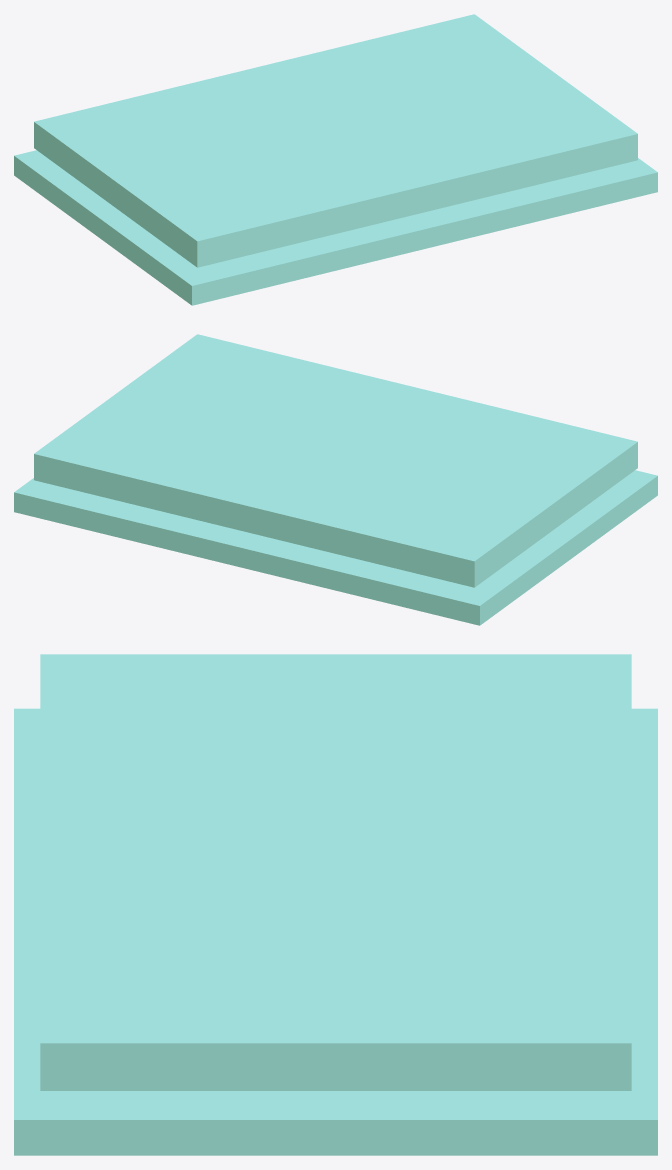
File: 01_panel.glb
3 renders of one model, top to bottom at view 1: azimuth 30°, elevation 25°; view 2: azimuth 150°, elevation 25°; view 3: azimuth 270°, elevation 25°, orthographic. The views are drawn at different scales.
Parts seen in each view (by area): view 1: energy_01_panel; view 2: energy_01_panel; view 3: energy_01_panel.
Boxes of the visible parts, x1,y1,x2,y2 form: energy_01_panel: [14, 14, 657, 305]; energy_01_panel: [14, 334, 657, 625]; energy_01_panel: [14, 654, 657, 1155].
Size of the model in its own units: 0.74 by 0.085 by 0.49.
